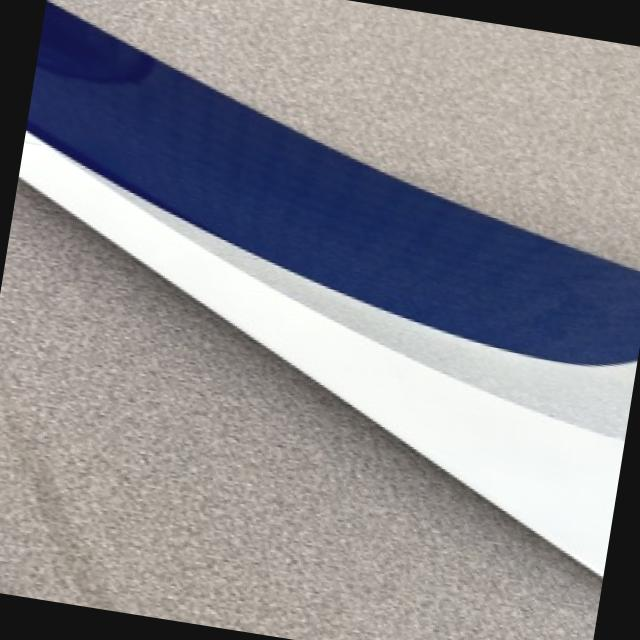healthy: (0, 181, 599, 640)
